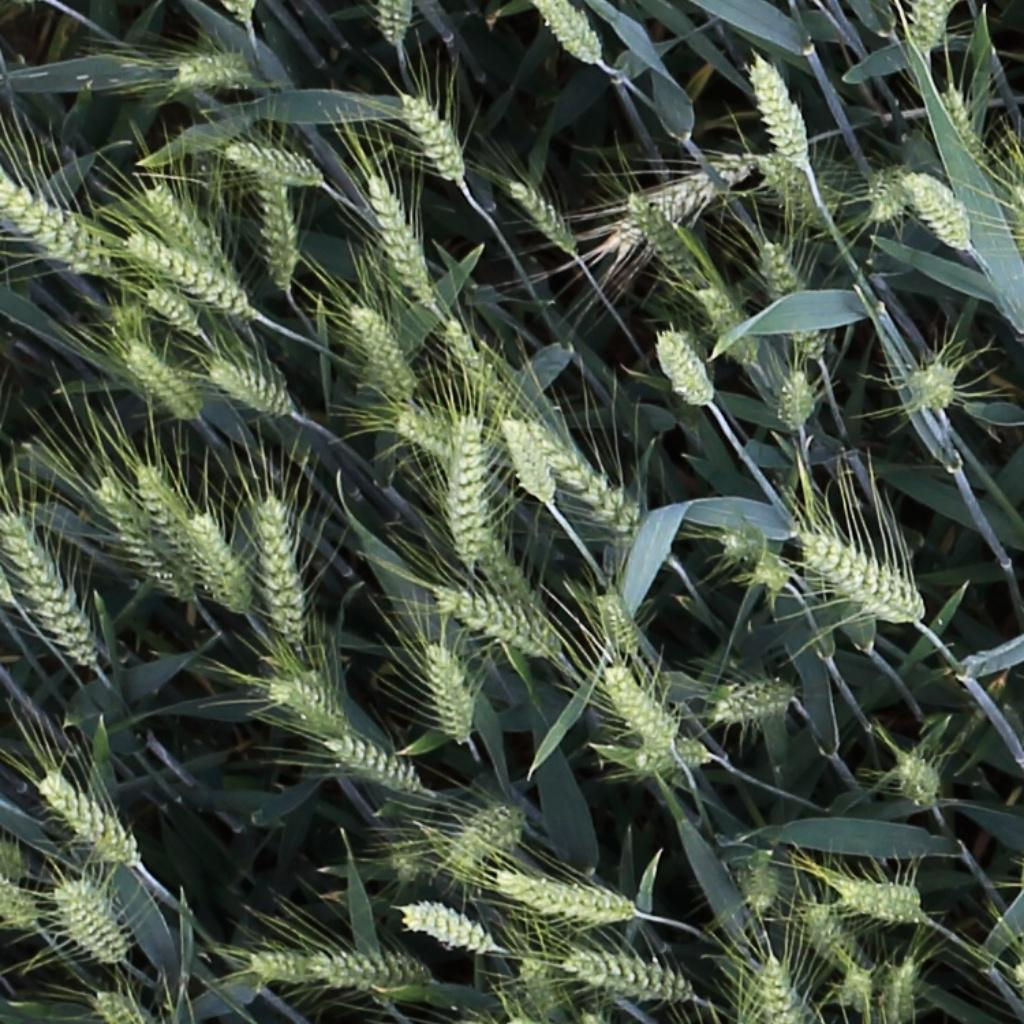0-0: (2, 514, 96, 674), (621, 152, 764, 250), (801, 527, 927, 625), (90, 477, 189, 600), (522, 423, 630, 532), (124, 234, 248, 314), (363, 170, 434, 308), (619, 188, 709, 291), (759, 230, 829, 360), (255, 494, 313, 650), (434, 592, 560, 663), (493, 868, 637, 928), (38, 779, 135, 866), (5, 187, 105, 271), (433, 794, 527, 882), (436, 314, 514, 417), (131, 461, 196, 573), (139, 181, 217, 270), (446, 417, 491, 570), (395, 87, 465, 185), (185, 509, 248, 615), (51, 876, 125, 966), (423, 640, 485, 746), (749, 57, 806, 172), (600, 666, 677, 750), (349, 304, 415, 401), (563, 953, 699, 1000), (313, 951, 456, 993), (505, 174, 578, 256), (121, 342, 196, 419), (399, 902, 499, 957), (323, 738, 420, 794), (937, 80, 993, 173), (699, 282, 759, 367), (498, 415, 552, 509), (264, 667, 339, 733), (907, 176, 972, 251), (252, 165, 290, 292), (204, 359, 290, 415), (653, 326, 711, 409), (801, 902, 868, 973), (535, 0, 603, 66), (392, 397, 453, 468), (621, 739, 712, 786), (247, 941, 333, 988), (219, 143, 319, 182), (838, 880, 924, 925), (592, 588, 641, 664), (709, 676, 791, 720), (515, 952, 559, 1022), (140, 285, 199, 337), (172, 52, 251, 88), (894, 746, 936, 813), (866, 163, 913, 217), (0, 869, 38, 931), (760, 950, 791, 1024), (746, 850, 777, 922), (887, 954, 917, 1024), (783, 363, 809, 438), (907, 367, 955, 405), (914, 0, 946, 55), (87, 989, 137, 1024), (379, 0, 412, 52)
